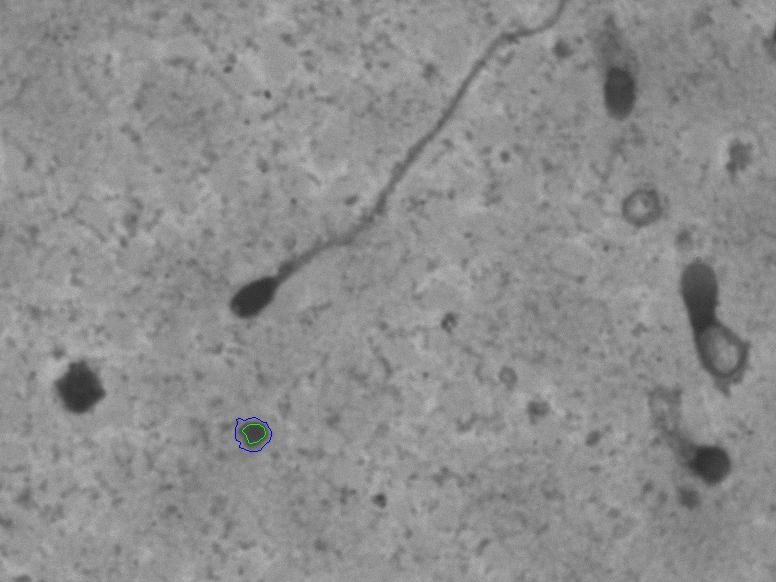Abnormal: (210, 4, 568, 331)
